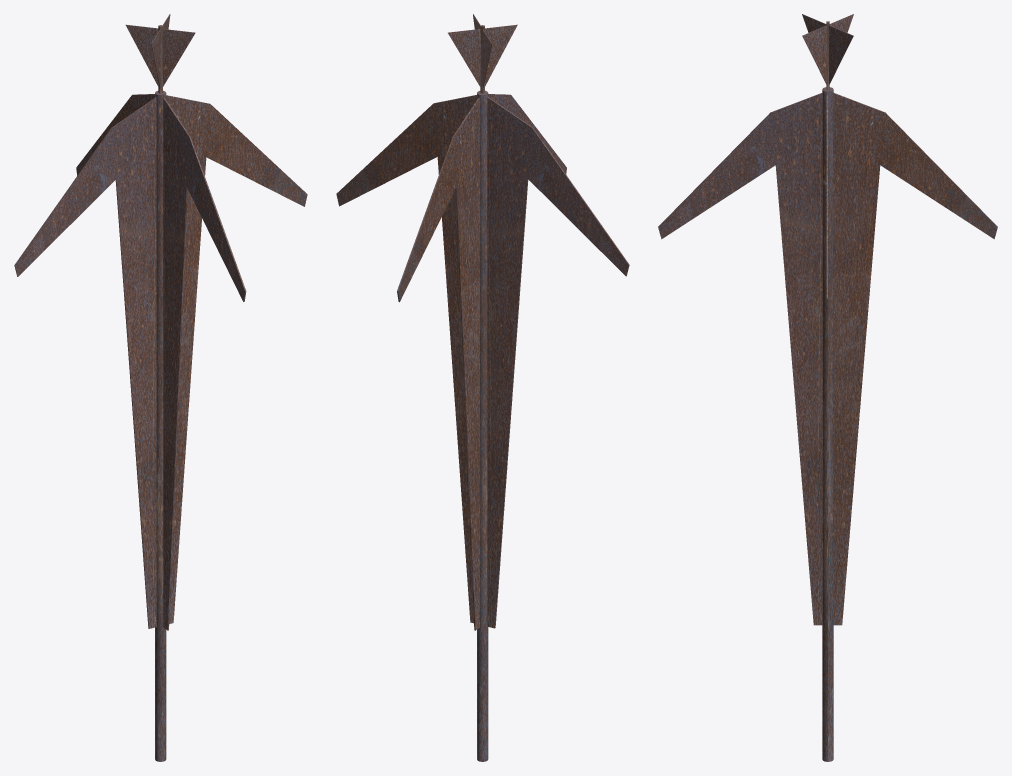
The model's file is designator5.obj.
The picture shows the model from 3 angles, left to right: view 1: azimuth 30°, elevation 25°; view 2: azimuth 150°, elevation 25°; view 3: azimuth 270°, elevation 25°; orthographic projection.
Parts seen in each view (by area): view 1: telo1, telo2, tyc, hlava2; view 2: telo1, telo2, tyc, hlava3; view 3: telo2, tyc, telo1, hlava2, hlava3.
Boxes of the visible parts, x1,y1,x2,y2 form: telo1: (14,95,307,628); telo2: (76,94,246,630); tyc: (155,90,166,761); hlava2: (125,24,195,86); telo1: (336,95,629,628); telo2: (397,94,566,630); tyc: (477,90,488,761); hlava3: (448,24,517,87); telo2: (658,92,997,625); tyc: (822,87,833,761); telo1: (826,95,827,630); hlava2: (802,14,853,84); hlava3: (802,14,853,84).
Size of the model in its own units: 1.25 by 2.99 by 1.25.
